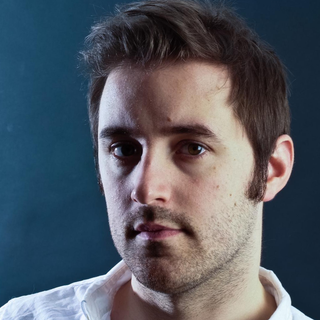eye: (174, 138, 217, 164)
